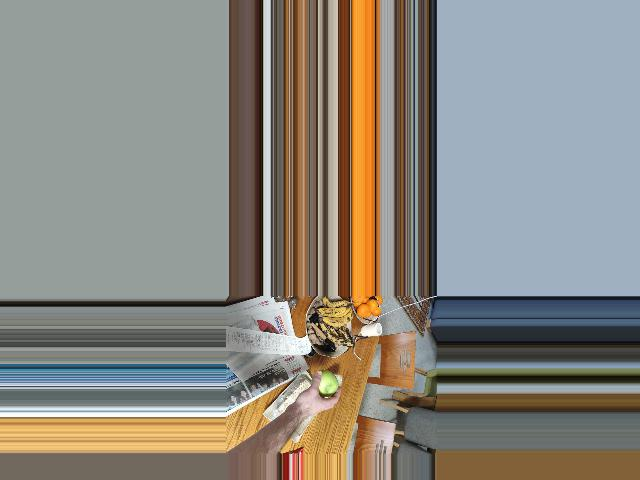apple: (314, 371, 339, 403)
